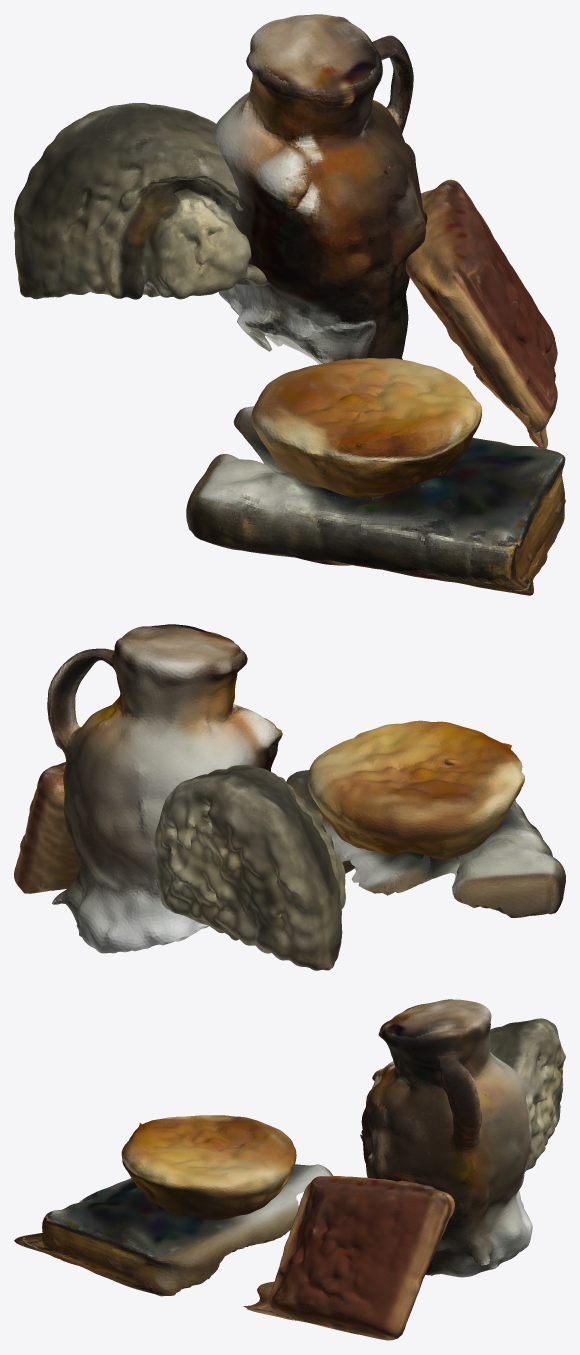
Rendered from gen3dsr_no_bg.glb.
The picture shows the model from 3 angles, top to bottom: view 1: azimuth 30°, elevation 25°; view 2: azimuth 150°, elevation 25°; view 3: azimuth 270°, elevation 25°; orthographic projection. The views are drawn at different scales.
Visible parts, largest first — view 1: 4.obj, 1.obj, 2.obj, 0.obj, 3.obj; view 2: 4.obj, 1.obj, 0.obj, 2.obj, 3.obj; view 3: 4.obj, 3.obj, 2.obj, 0.obj, 1.obj.
Boxes of the visible parts, x1,y1,x2,y2 form: 4.obj: [213, 14, 427, 364]; 1.obj: [14, 103, 269, 299]; 2.obj: [186, 406, 565, 595]; 0.obj: [251, 358, 482, 497]; 3.obj: [405, 179, 557, 448]; 4.obj: [47, 624, 282, 953]; 1.obj: [154, 764, 345, 970]; 0.obj: [308, 720, 524, 859]; 2.obj: [286, 770, 565, 917]; 3.obj: [14, 762, 78, 893]; 4.obj: [360, 999, 532, 1277]; 3.obj: [243, 1176, 454, 1340]; 2.obj: [14, 1164, 332, 1296]; 0.obj: [121, 1115, 296, 1220]; 1.obj: [489, 1018, 565, 1171].
Size of the model in its own units: 0.5959 by 0.4257 by 0.8051.
5 materials, 5 textured.
